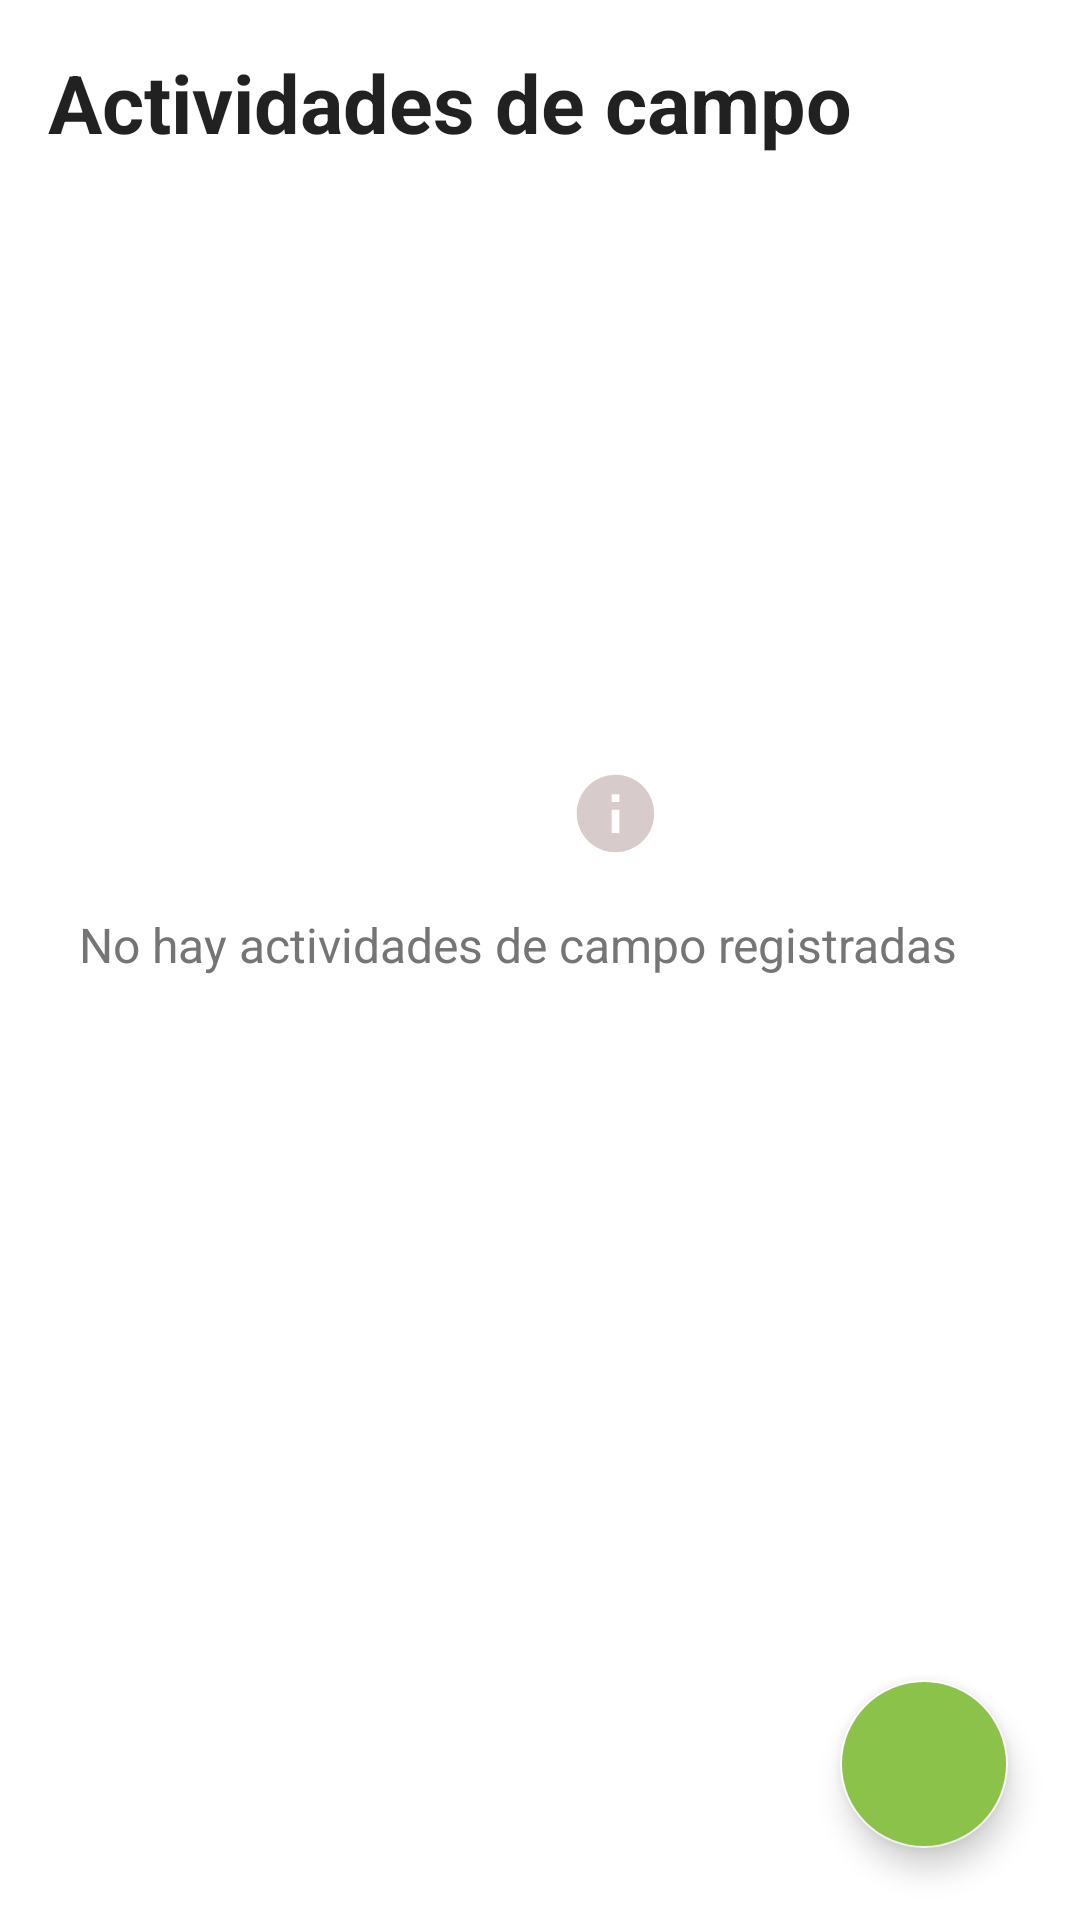

Icons on this 1080x1920 Android screen, each with the point to tap as [x,y]:
info: [615,813]
